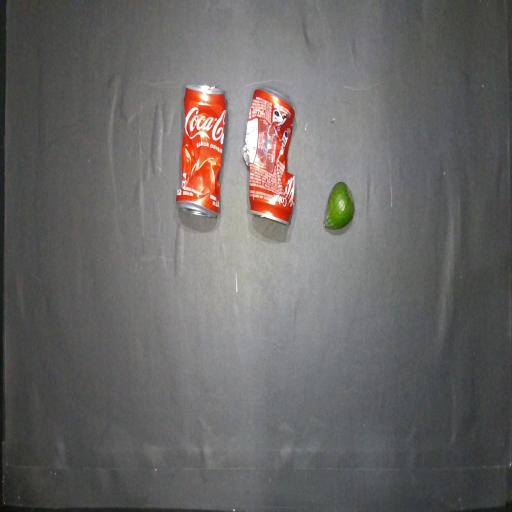higo: (324, 182, 354, 229)
lata_defectuoso: (242, 88, 296, 225), (177, 85, 227, 217)
